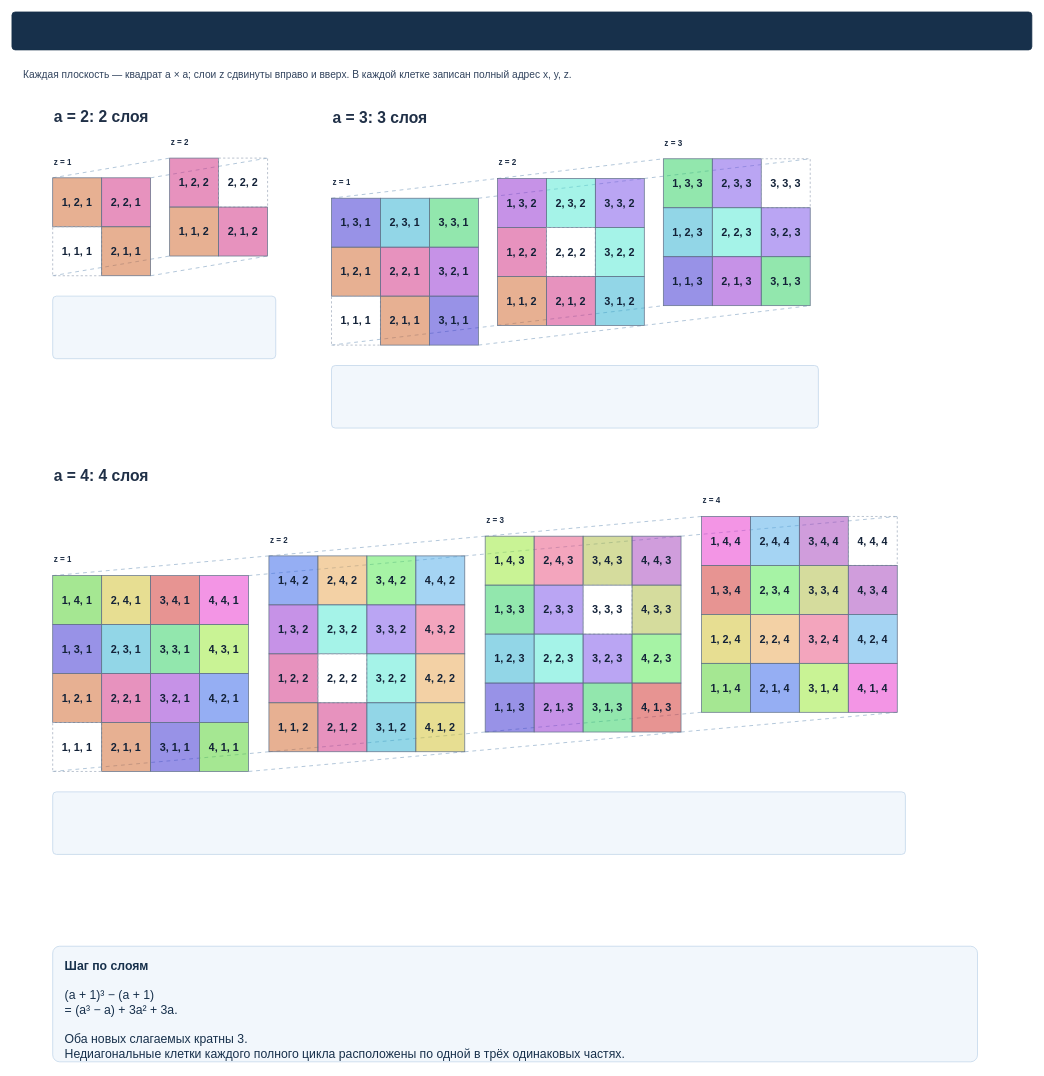
This 1044x1076 diagram has some shape labels left out. The centre of each missing label's shape, as x and y in pixels:
"2³ − 2 = 6 = 3 × 2 2 диагональных; 2 групп по 3." belongs at (x=164, y=327).
"3³ − 3 = 24 = 3 × 8 3 диагональных; 8 групп по 3." belongs at (x=574, y=396).
"4³ − 4 = 60 = 3 × 20 4 диагональных; 20 групп по 3." belongs at (x=478, y=822).
"Лист_2 — r = 3: куб из сдвинутых срезов" belongs at (x=521, y=30).
